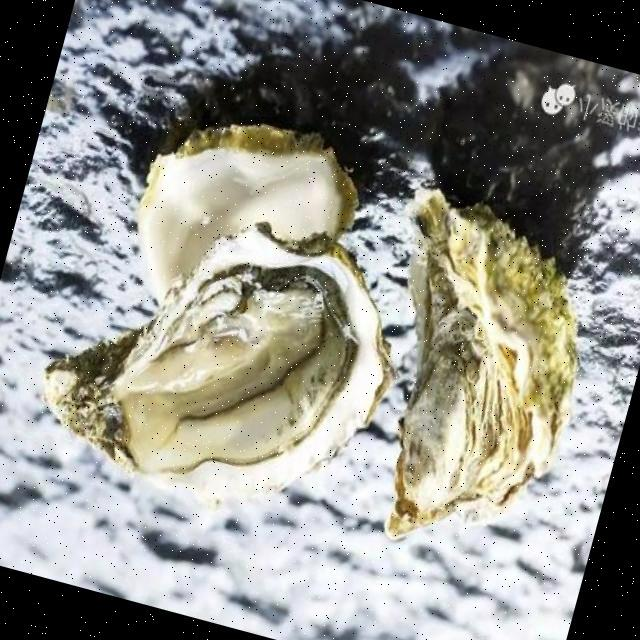Oyster-Closed: (382, 188, 582, 542)
Oyster-Open: (44, 220, 396, 508), (136, 122, 362, 312)
